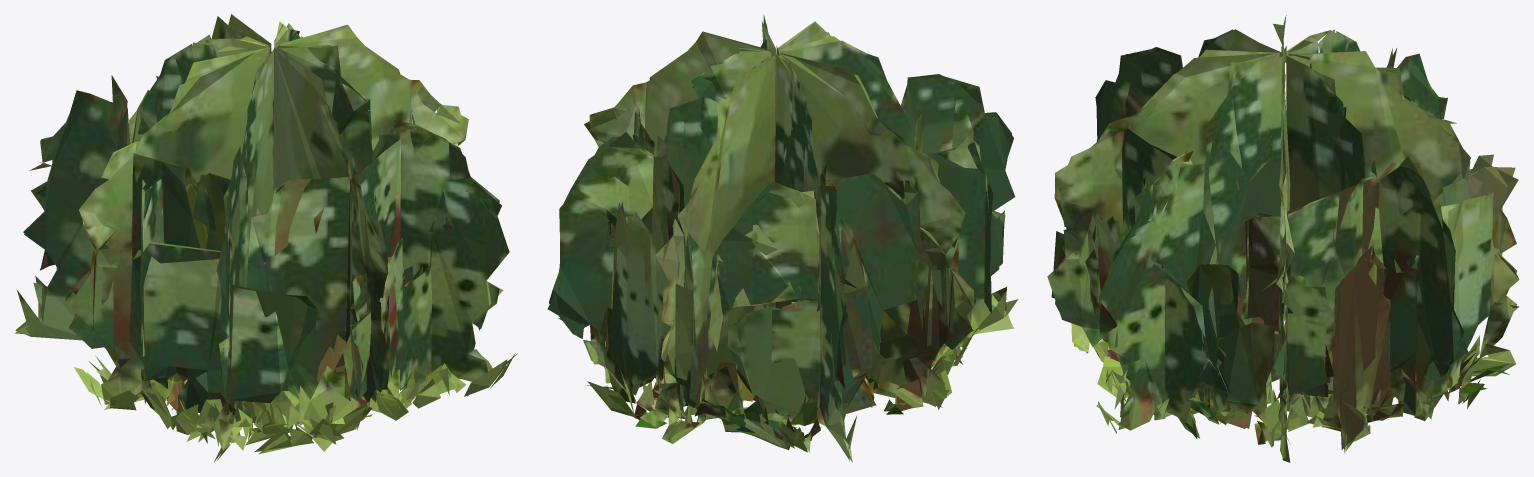
The model's file is bush_overgrown.glb.
3 renders of one model, left to right at view 1: azimuth 30°, elevation 25°; view 2: azimuth 150°, elevation 25°; view 3: azimuth 270°, elevation 25°, orthographic. The views are drawn at different scales.
Visible parts, largest first — view 1: obj.obj; view 2: obj.obj; view 3: obj.obj.
Part boxes in pixels (x1,y1,x2,y2): obj.obj: (15, 14, 517, 461); obj.obj: (547, 14, 1018, 462); obj.obj: (1047, 15, 1519, 462).
Size of the model in its own units: 1.76 by 1.39 by 1.76.
Materials: 1 (1 with a texture image).
